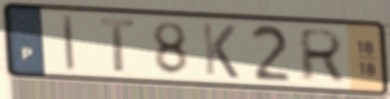2: (248, 23, 294, 84)
8: (149, 20, 192, 76)
I: (60, 12, 78, 75)
K: (199, 21, 241, 81)
R: (298, 26, 347, 83)
T: (97, 17, 138, 75)
